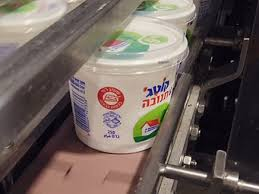Cotage: (64, 18, 179, 149)
